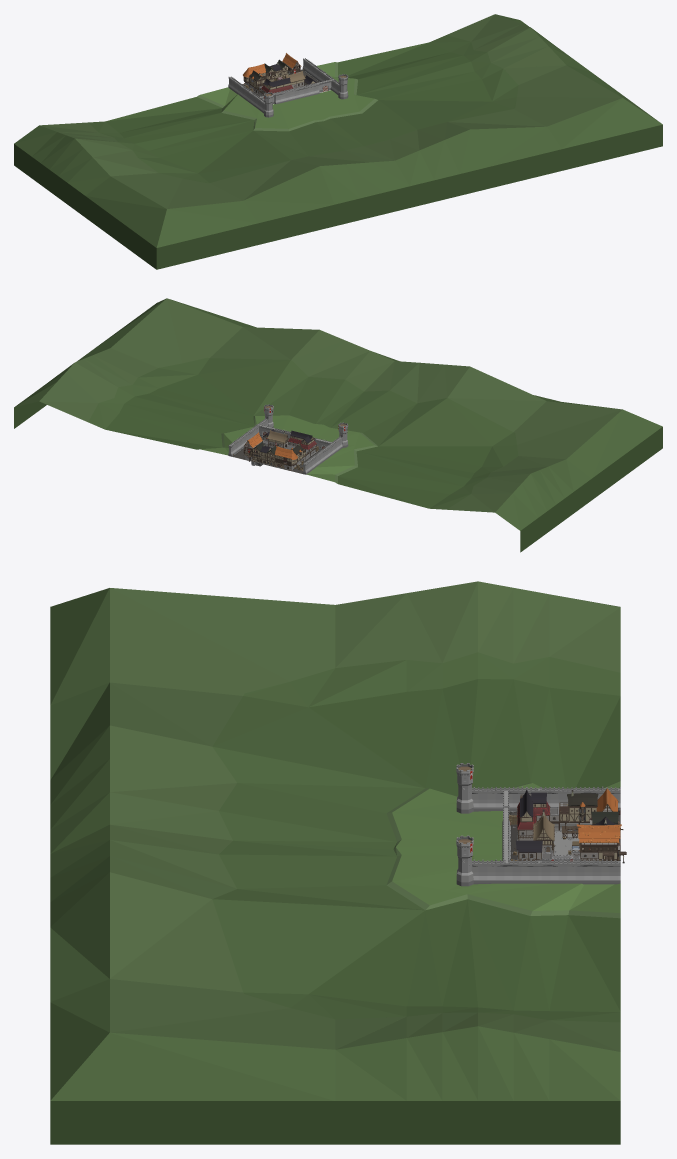
The model's file is narrowAlleys.glb.
3 renders of one model, top to bottom at view 1: azimuth 30°, elevation 25°; view 2: azimuth 150°, elevation 25°; view 3: azimuth 270°, elevation 25°, orthographic. The views are drawn at different scales.
Parts seen in each view (by area): view 1: Plane.134, Plane.2172; view 2: Plane.134; view 3: Plane.134, Plane.2169, Plane.483, Plane.2175, Plane.2174.
Boxes of the visible parts, <box> form: Plane.134: <box>14,14,662,269</box>; Plane.2172: <box>274,82,319,104</box>; Plane.134: <box>14,298,662,552</box>; Plane.134: <box>50,581,620,1144</box>; Plane.2169: <box>540,859,620,884</box>; Plane.483: <box>471,859,540,884</box>; Plane.2175: <box>471,786,540,811</box>; Plane.2174: <box>540,786,620,810</box>.
Size of what is drawn, in the model's own units: 452 by 42.04 by 223.
